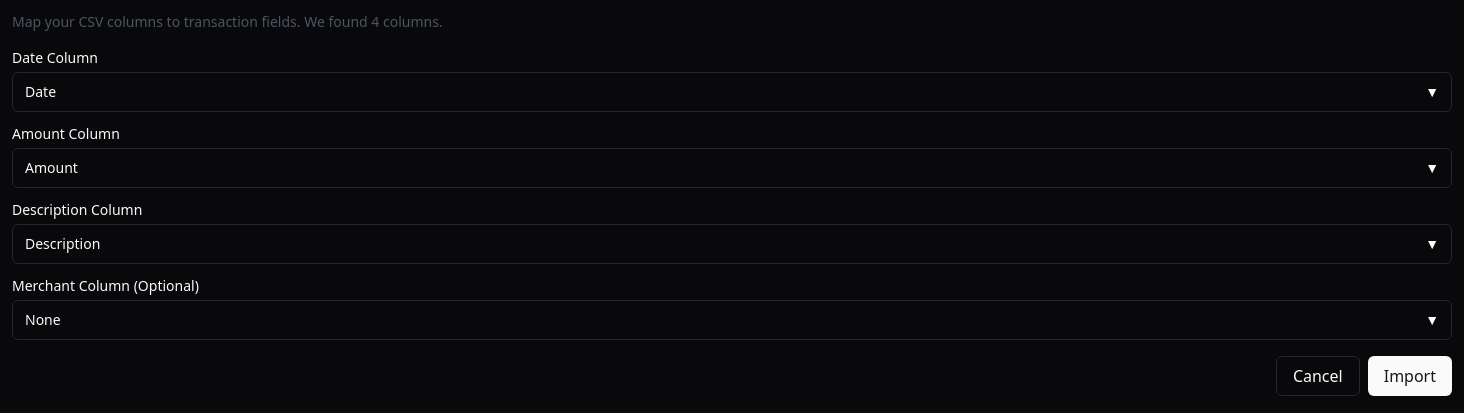
Scenario: ColumnMappingForm › Import Functionality › should disable buttons while importing
This screenshot has width=1464, height=413.
Step 1. Click the button "Import" → [1410, 376], box [1368,356,1452,396]
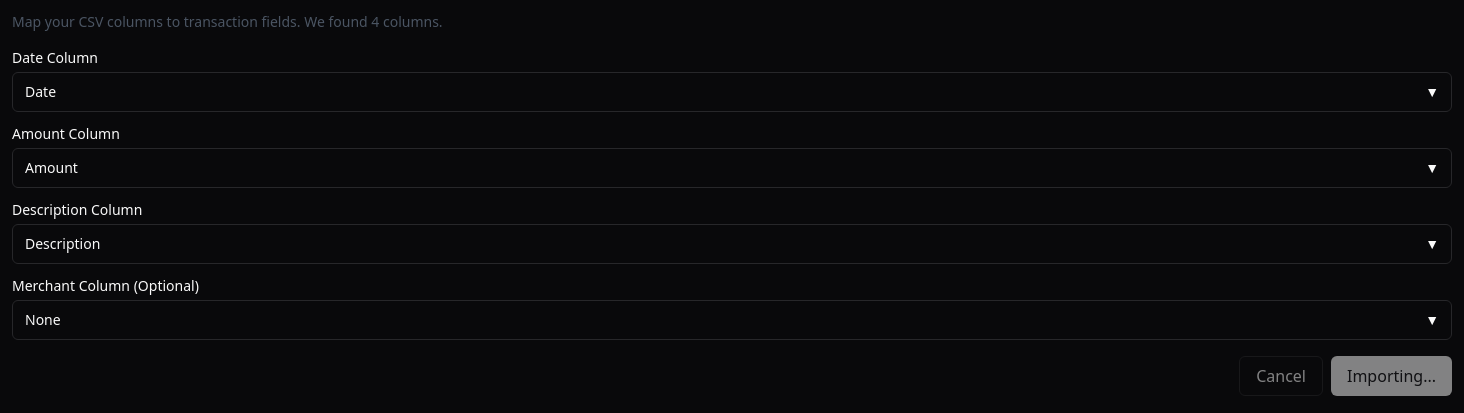
Expected: the button "Importing..." is disabled, [1331,356,1452,396]
Expected: the button "Cancel" is disabled, [1239,356,1323,396]
